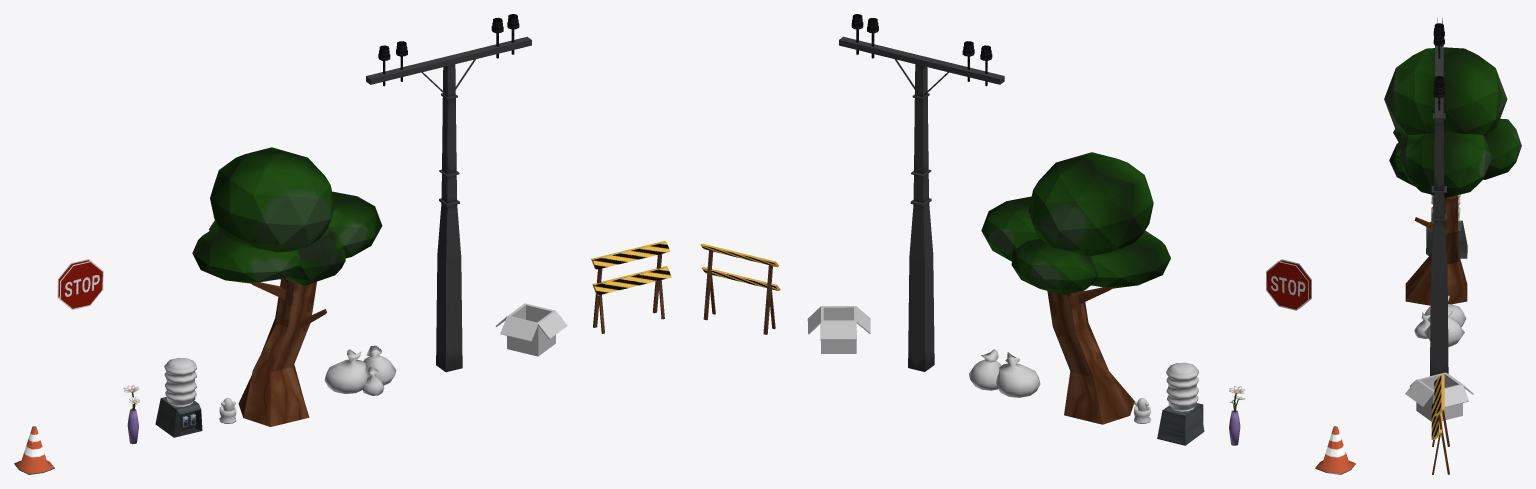
The model's file is assetspt02.fbx.
The picture shows the model from 3 angles, left to right: view 1: azimuth 30°, elevation 25°; view 2: azimuth 150°, elevation 25°; view 3: azimuth 270°, elevation 25°; orthographic projection. The views are drawn at different scales.
Parts seen in each view (by area): view 1: SmallTree, LampPost, WaterGallon, RoadBarrier, CardboardBox, TrashBag, SignPost, TrafficCone; view 2: SmallTree, LampPost, WaterGallon, TrashBag, CardboardBox, RoadBarrier, SignPost, TrafficCone; view 3: SmallTree, LampPost, CardboardBox, RoadBarrier, TrashBag, WaterGallon.
Boxes of the visible parts, bbox=[...] form: SmallTree: bbox=[192, 147, 382, 426]; LampPost: bbox=[366, 14, 531, 372]; WaterGallon: bbox=[155, 358, 202, 437]; RoadBarrier: bbox=[591, 241, 671, 333]; CardboardBox: bbox=[495, 303, 567, 356]; TrashBag: bbox=[324, 345, 396, 395]; SignPost: bbox=[57, 259, 103, 309]; TrafficCone: bbox=[14, 426, 54, 474]; SmallTree: bbox=[981, 152, 1170, 424]; LampPost: bbox=[839, 14, 1004, 371]; WaterGallon: bbox=[1157, 362, 1204, 445]; TrashBag: bbox=[969, 349, 1040, 397]; CardboardBox: bbox=[807, 306, 870, 353]; RoadBarrier: bbox=[700, 243, 780, 334]; SignPost: bbox=[1266, 259, 1311, 310]; TrafficCone: bbox=[1315, 426, 1355, 474]; SmallTree: bbox=[1384, 47, 1521, 305]; LampPost: bbox=[1430, 23, 1448, 376]; CardboardBox: bbox=[1405, 372, 1473, 421]; RoadBarrier: bbox=[1431, 375, 1449, 474]; TrashBag: bbox=[1414, 295, 1466, 347]; WaterGallon: bbox=[1426, 194, 1467, 258].
Bounding box in the file's own units: 2922 × 1448 × 564.
